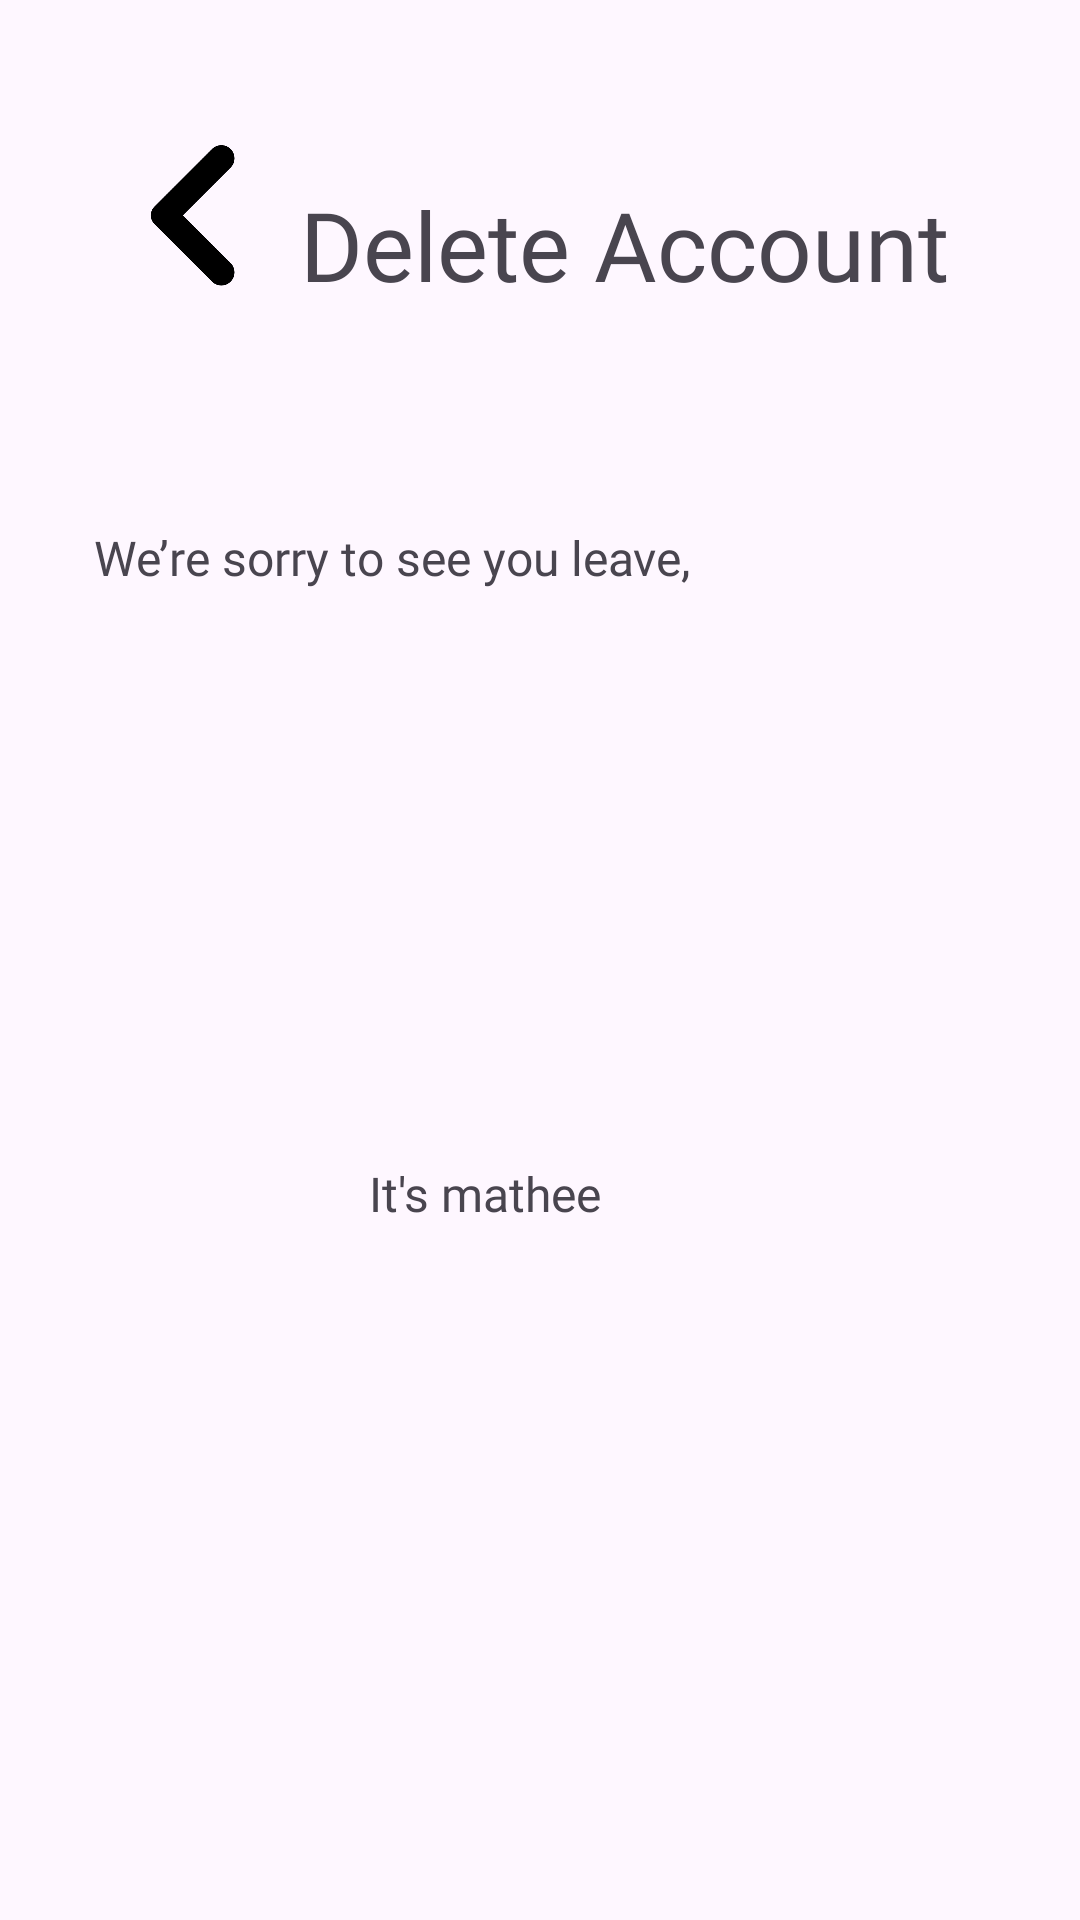

Screen size 1080px x 1920px. Icon name, then its box in pixels as (x1, y1, x2, y2):
back: (151, 145, 235, 286)
